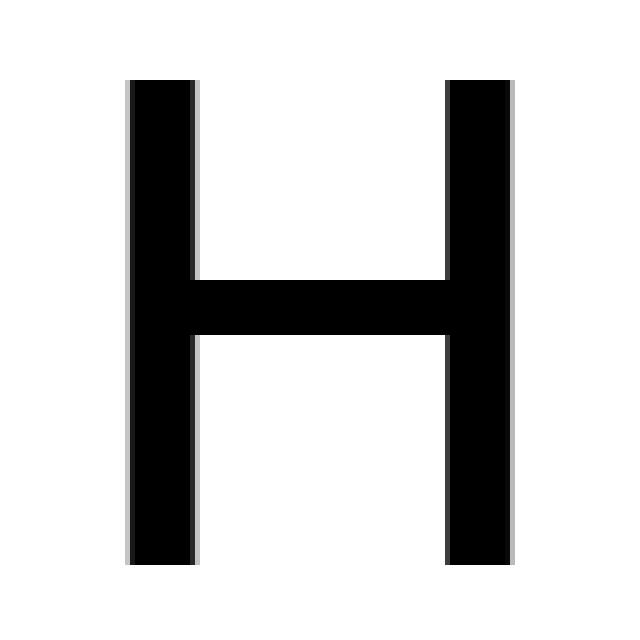H: (120, 70, 515, 570)
